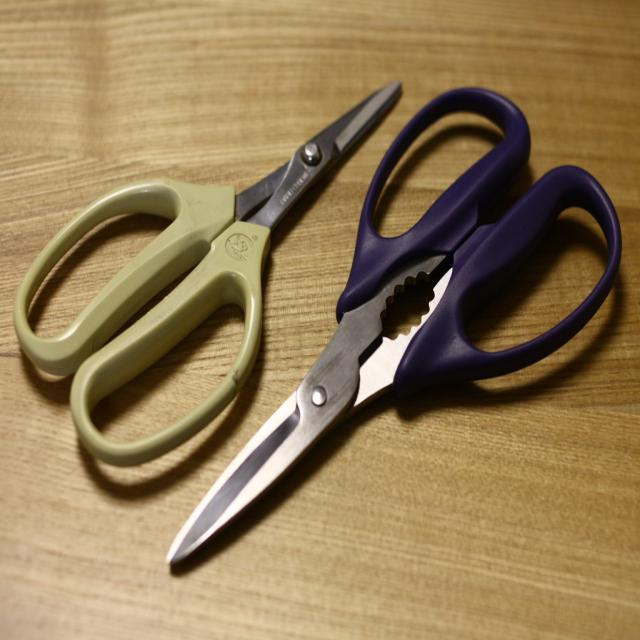scissors: (164, 84, 622, 567), (13, 78, 403, 466)
